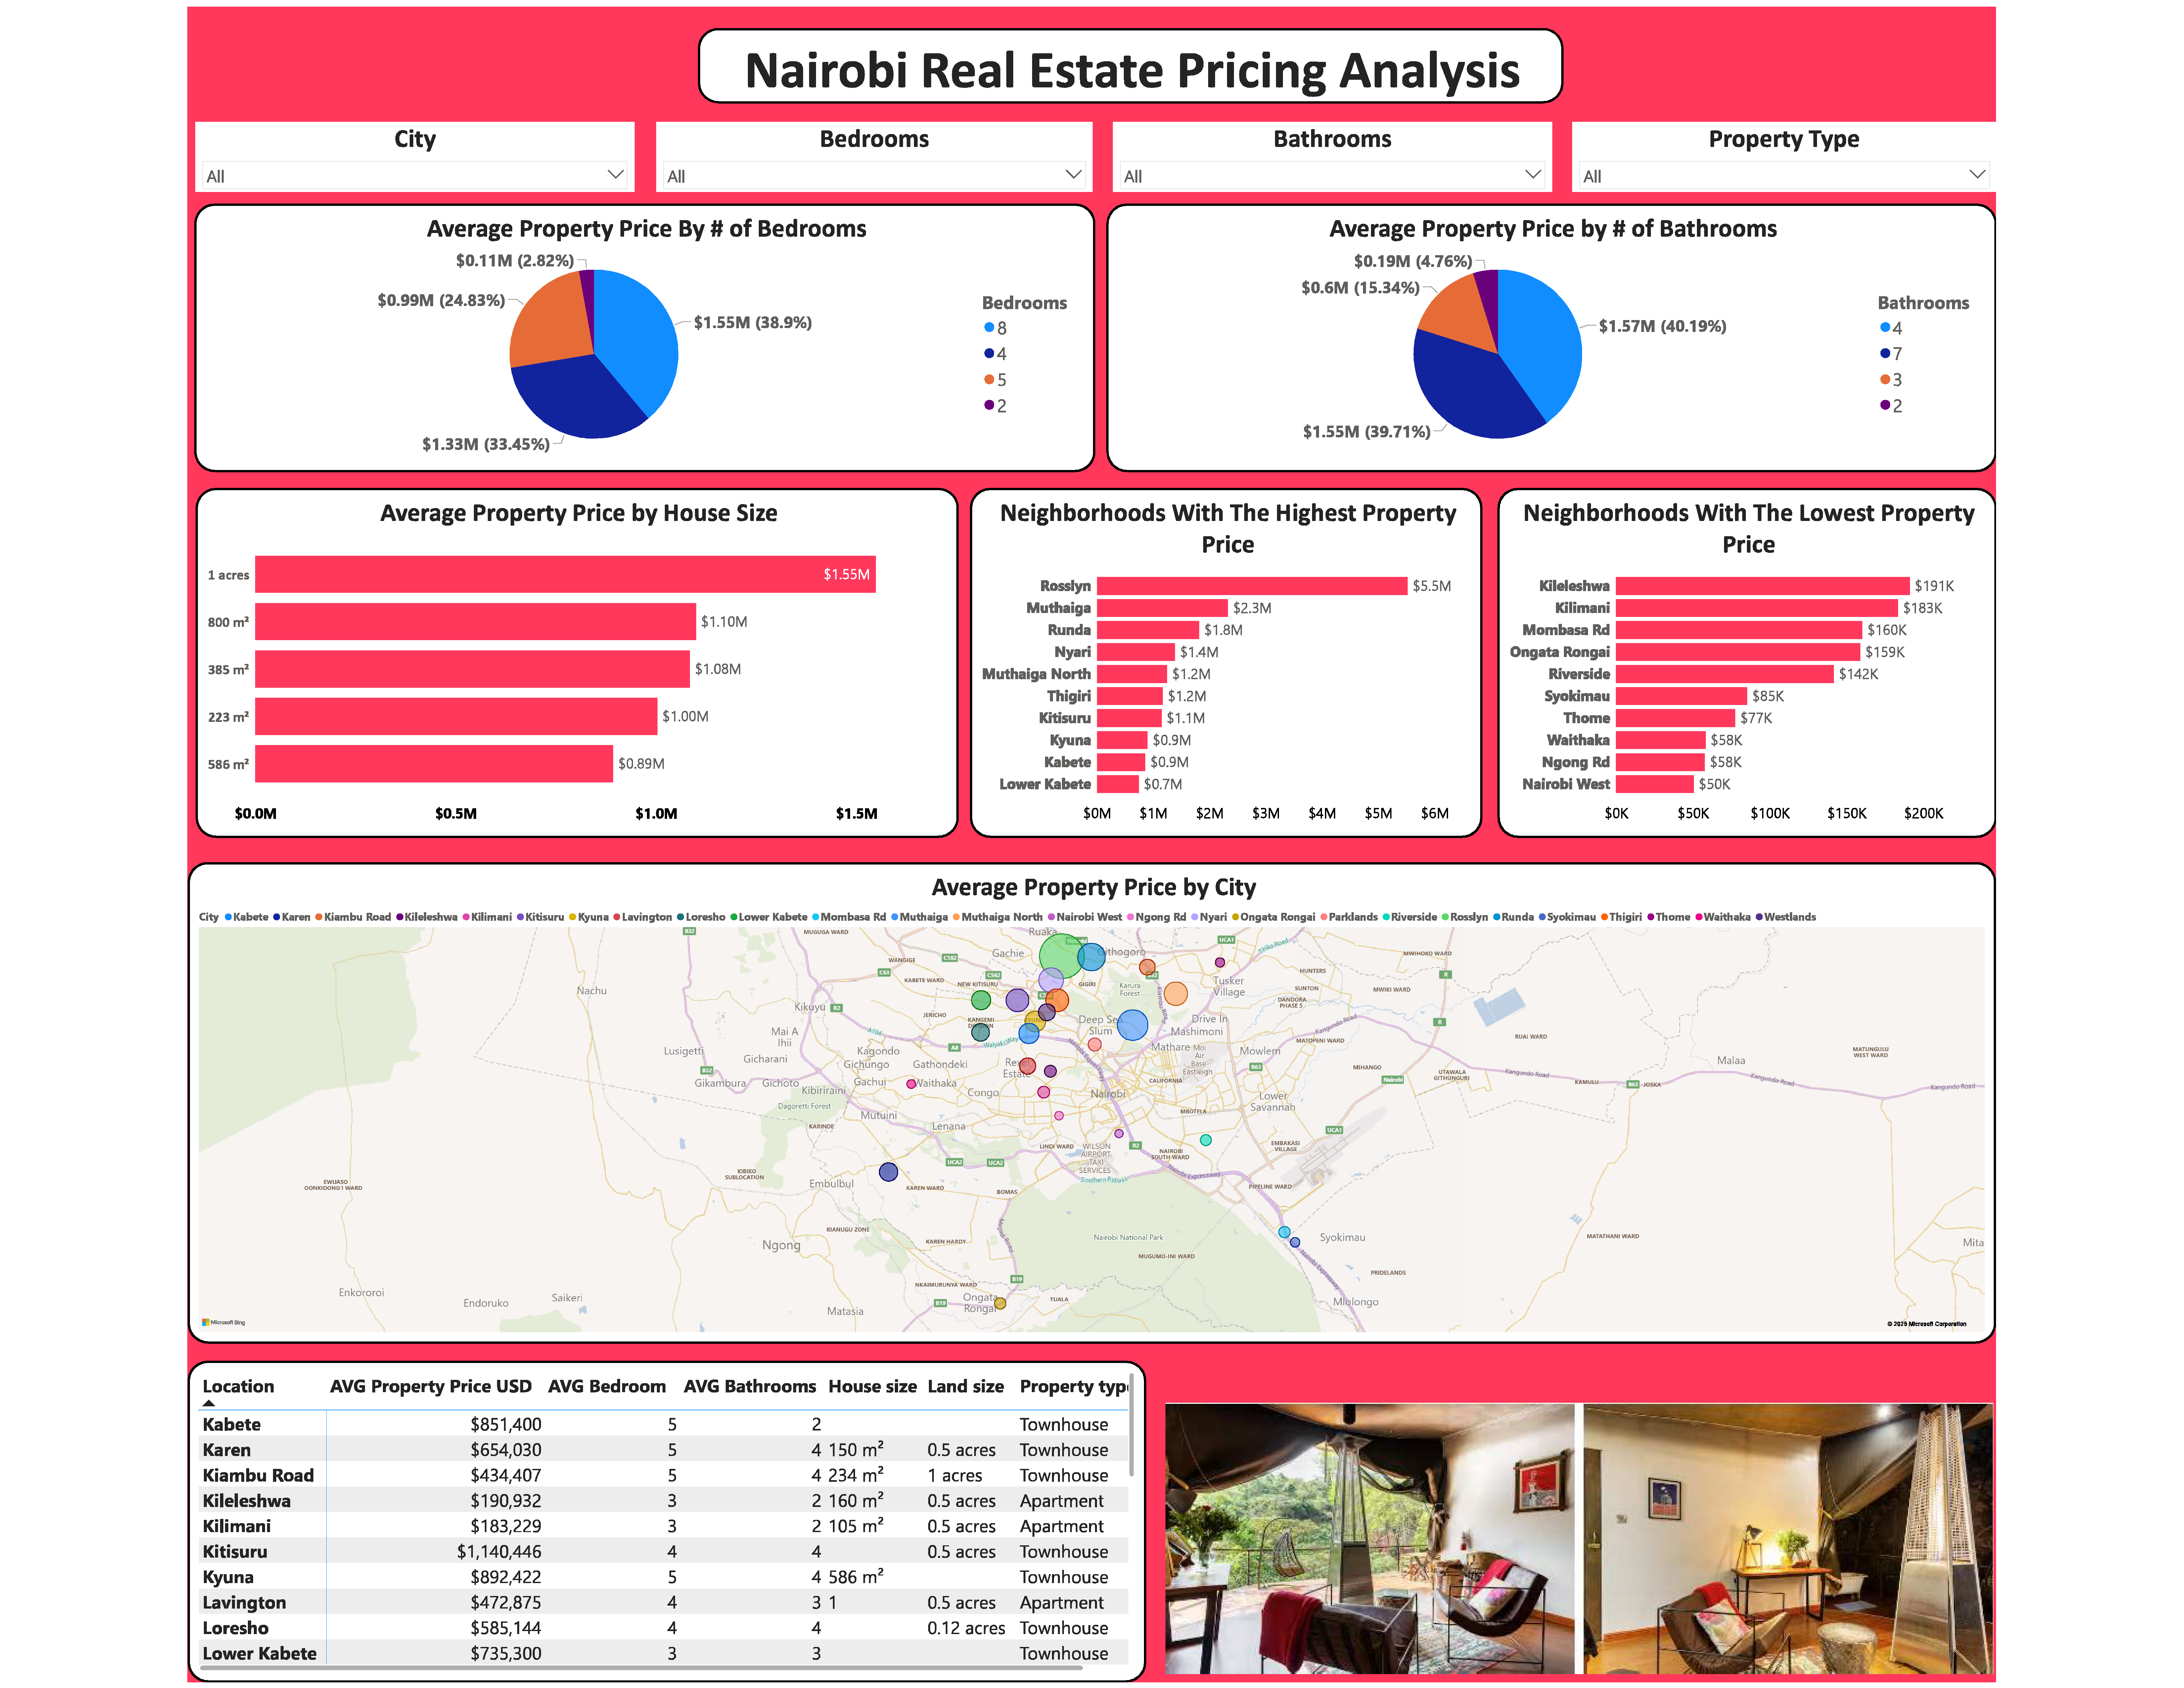

This screenshot's page, from the dashboard's own definition file:
{"tool":"powerbi","page":{"name":"Nairobi Property Prices Analysis","canvas":[2700,2500],"ordinal":1},"visuals":[{"type":"clusteredBarChart","title":"Neighborhoods With The Lowest Property Price","fields":{"Category":["Nairobi_Property_Pricing.Location"],"Y":["Nairobi_Property_Pricing.Average Property Price USD"]},"box":[1955.1,718.4,744.9,522.4],"z":0},{"type":"clusteredBarChart","title":"Neighborhoods With The Highest Property Price","fields":{"Category":["Nairobi_Property_Pricing.Location"],"Y":["Nairobi_Property_Pricing.Average Property Price USD"]},"box":[1167.3,718.4,765.3,522.4],"z":1000},{"type":"map","title":"Average Property Price by City","fields":{"X":["Nairobi_Property_Pricing.longitude"],"Y":["Nairobi_Property_Pricing.latitude"],"Size":["Nairobi_Property_Pricing.Average Property Price USD"],"Series":["Nairobi_Property_Pricing.Location"]},"box":[0,1275.5,2700,718.4],"z":2000},{"type":"pivotTable","fields":{"Values":["Nairobi_Property_Pricing.Average Property Price USD","Nairobi_Property_Pricing.Average Bedroom","Nairobi_Property_Pricing.Average Bathrooms","Min(Nairobi_Property_Pricing.House_size)","Min(Nairobi_Property_Pricing.Land_size)","Min(Nairobi_Property_Pricing.propertyType)"],"Rows":["Nairobi_Property_Pricing.Location"]},"box":[0,2020.4,1430.6,479.6],"z":3000},{"type":"barChart","title":"Average Property Price by House Size","fields":{"Category":["Nairobi_Property_Pricing.House_size","Nairobi_Property_Pricing.Land_size"],"Y":["Nairobi_Property_Pricing.Average Property Price USD"]},"box":[12.2,718.4,1138.8,522.4],"z":4000},{"type":"pieChart","title":"Average Property Price By # of Bedrooms","fields":{"Y":["Nairobi_Property_Pricing.Average Property Price USD"],"Category":["Nairobi_Property_Pricing.Bedroom"]},"box":[10.2,293.9,1345,400],"z":5000},{"type":"pieChart","title":"Average Property Price by # of Bathrooms","fields":{"Y":["Nairobi_Property_Pricing.Average Property Price USD"],"Category":["Nairobi_Property_Pricing.bathroom"]},"box":[1371.4,293.9,1328.6,400],"z":6000},{"type":"image","box":[1455.1,2069.4,1244.9,430.6],"z":7000},{"type":"slicer","title":"City","fields":{"Values":["Nairobi_Property_Pricing.Location"]},"box":[12.2,171.4,655.1,104.1],"z":8000},{"type":"slicer","title":"Bedrooms","fields":{"Values":["Nairobi_Property_Pricing.Bedroom"]},"box":[700,171.4,651,104.1],"z":9000},{"type":"slicer","title":"Bathrooms","fields":{"Values":["Nairobi_Property_Pricing.bathroom"]},"box":[1381.6,171.4,655.1,104.1],"z":10000},{"type":"slicer","title":"Property Type","fields":{"Values":["Nairobi_Property_Pricing.propertyType"]},"box":[2067.3,171.4,632.7,104.1],"z":11000},{"type":"textbox","title":"Nairobi Real Estate Pricing Analysis","box":[761.2,32.7,1291.8,112.2],"z":12000}]}

Visuals, with their boxes in screenshot pixels (x1, y1, x2, y2):
"Neighborhoods With The Lowest Property Price" clusteredBarChart: region(1485, 485, 1981, 833)
"Neighborhoods With The Highest Property Price" clusteredBarChart: region(960, 485, 1470, 833)
"Average Property Price by City" map: region(182, 856, 1981, 1335)
pivotTable - Nairobi_Property_Pricing.Average Property Price USD x Nairobi_Property_Pricing.Average Bedroom: region(182, 1352, 1135, 1672)
"Average Property Price by House Size" barChart: region(190, 485, 949, 833)
"Average Property Price By # of Bedrooms" pieChart: region(189, 202, 1085, 468)
"Average Property Price by # of Bathrooms" pieChart: region(1096, 202, 1981, 468)
image: region(1152, 1385, 1981, 1672)
"City" slicer: region(190, 120, 627, 189)
"Bedrooms" slicer: region(649, 120, 1082, 189)
"Bathrooms" slicer: region(1103, 120, 1539, 189)
"Property Type" slicer: region(1560, 120, 1981, 189)
"Nairobi Real Estate Pricing Analysis" textbox: region(689, 27, 1550, 102)
